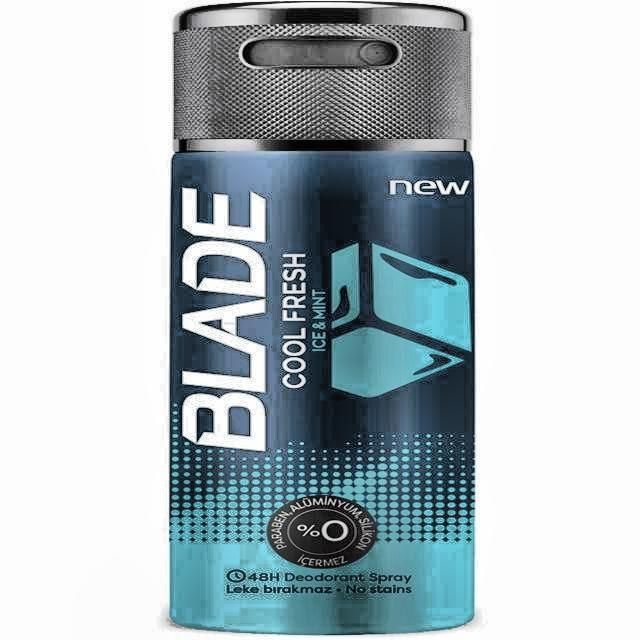metal: (167, 0, 481, 640)
